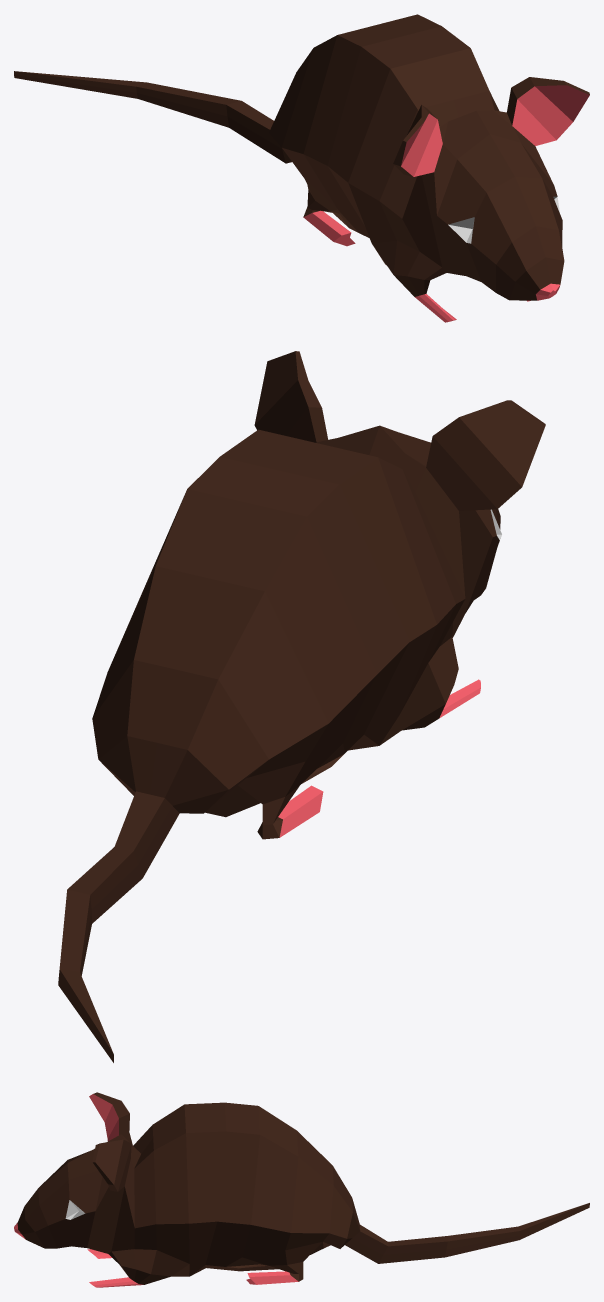
Rendered from rat.obj.
The picture shows the model from 3 angles, top to bottom: view 1: azimuth 30°, elevation 25°; view 2: azimuth 150°, elevation 25°; view 3: azimuth 270°, elevation 25°; orthographic projection. The views are drawn at different scales.
Parts seen in each view (by area): view 1: Cube_Cube.001; view 2: Cube_Cube.001; view 3: Cube_Cube.001.
Boxes of the visible parts, bbox=[...] form: Cube_Cube.001: bbox=[14, 14, 589, 322]; Cube_Cube.001: bbox=[58, 351, 545, 1062]; Cube_Cube.001: bbox=[14, 1092, 589, 1287].
Size of the model in its own units: 2.81 by 2.43 by 8.2.
